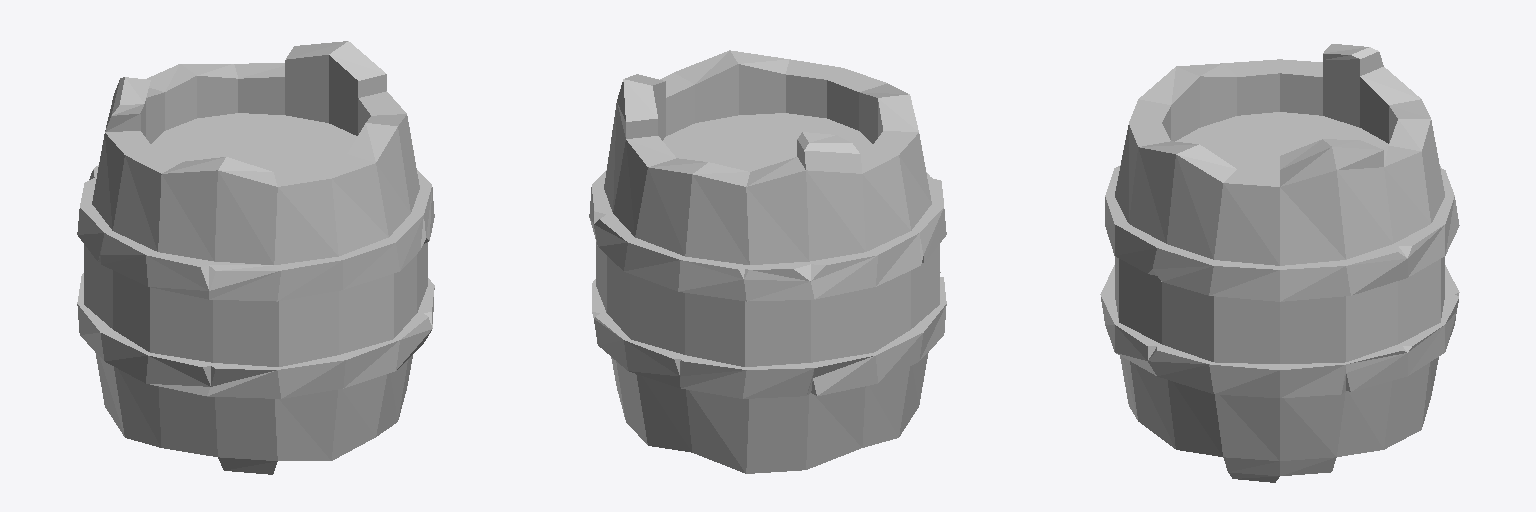
Rendered from wooden_barrel.obj.
3 renders of one model, left to right at view 1: azimuth 30°, elevation 25°; view 2: azimuth 150°, elevation 25°; view 3: azimuth 270°, elevation 25°, orthographic.
Parts seen in each view (by area): view 1: wooden_barrel; view 2: wooden_barrel; view 3: wooden_barrel.
Boxes of the visible parts, x1=… form: wooden_barrel: x1=77, y1=41, x2=434, y2=474; wooden_barrel: x1=589, y1=50, x2=946, y2=473; wooden_barrel: x1=1100, y1=44, x2=1459, y2=482.
Size of the model in its own units: 4.75 by 4.88 by 4.75.